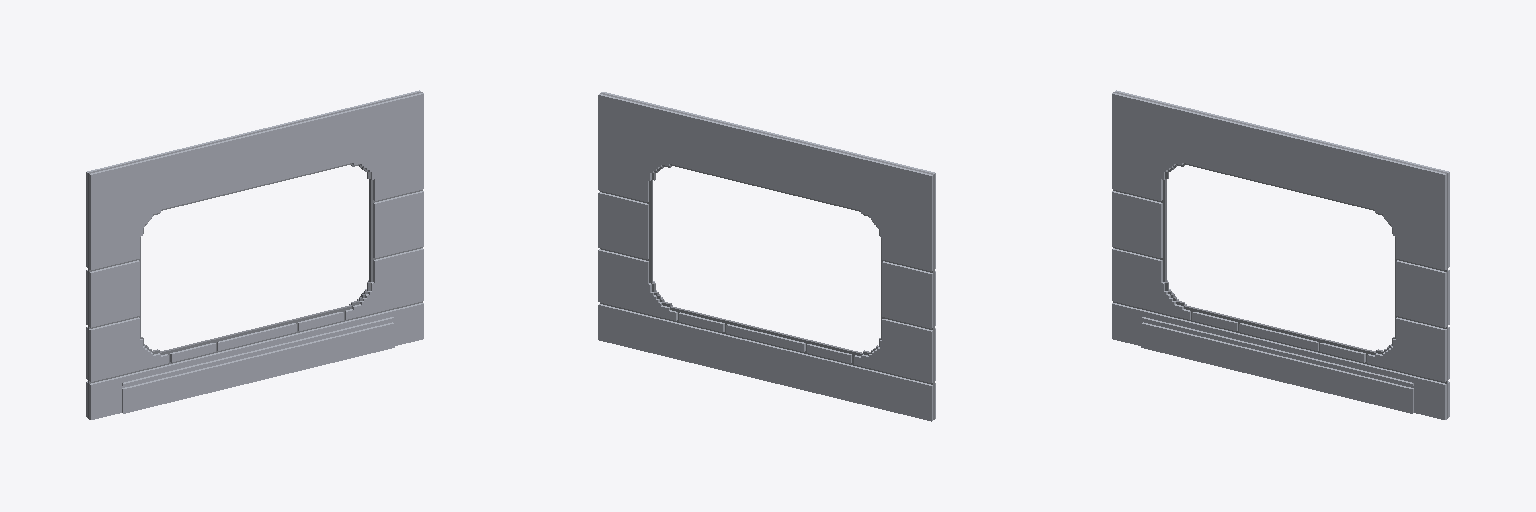
3 renders of one model, left to right at view 1: azimuth 30°, elevation 25°; view 2: azimuth 150°, elevation 25°; view 3: azimuth 330°, elevation 25°, orthographic.
Visible parts, largest first — view 1: Wall_Window_Large; view 2: Wall_Window_Large; view 3: Wall_Window_Large.
Boxes of the visible parts, box(x1,y1,x2,y2) form: Wall_Window_Large: box(86, 90, 423, 419); Wall_Window_Large: box(598, 92, 935, 421); Wall_Window_Large: box(1112, 90, 1449, 419).
Bounding box in the file's own units: 128 × 90 × 4.
Materials: 1 (1 with a texture image).